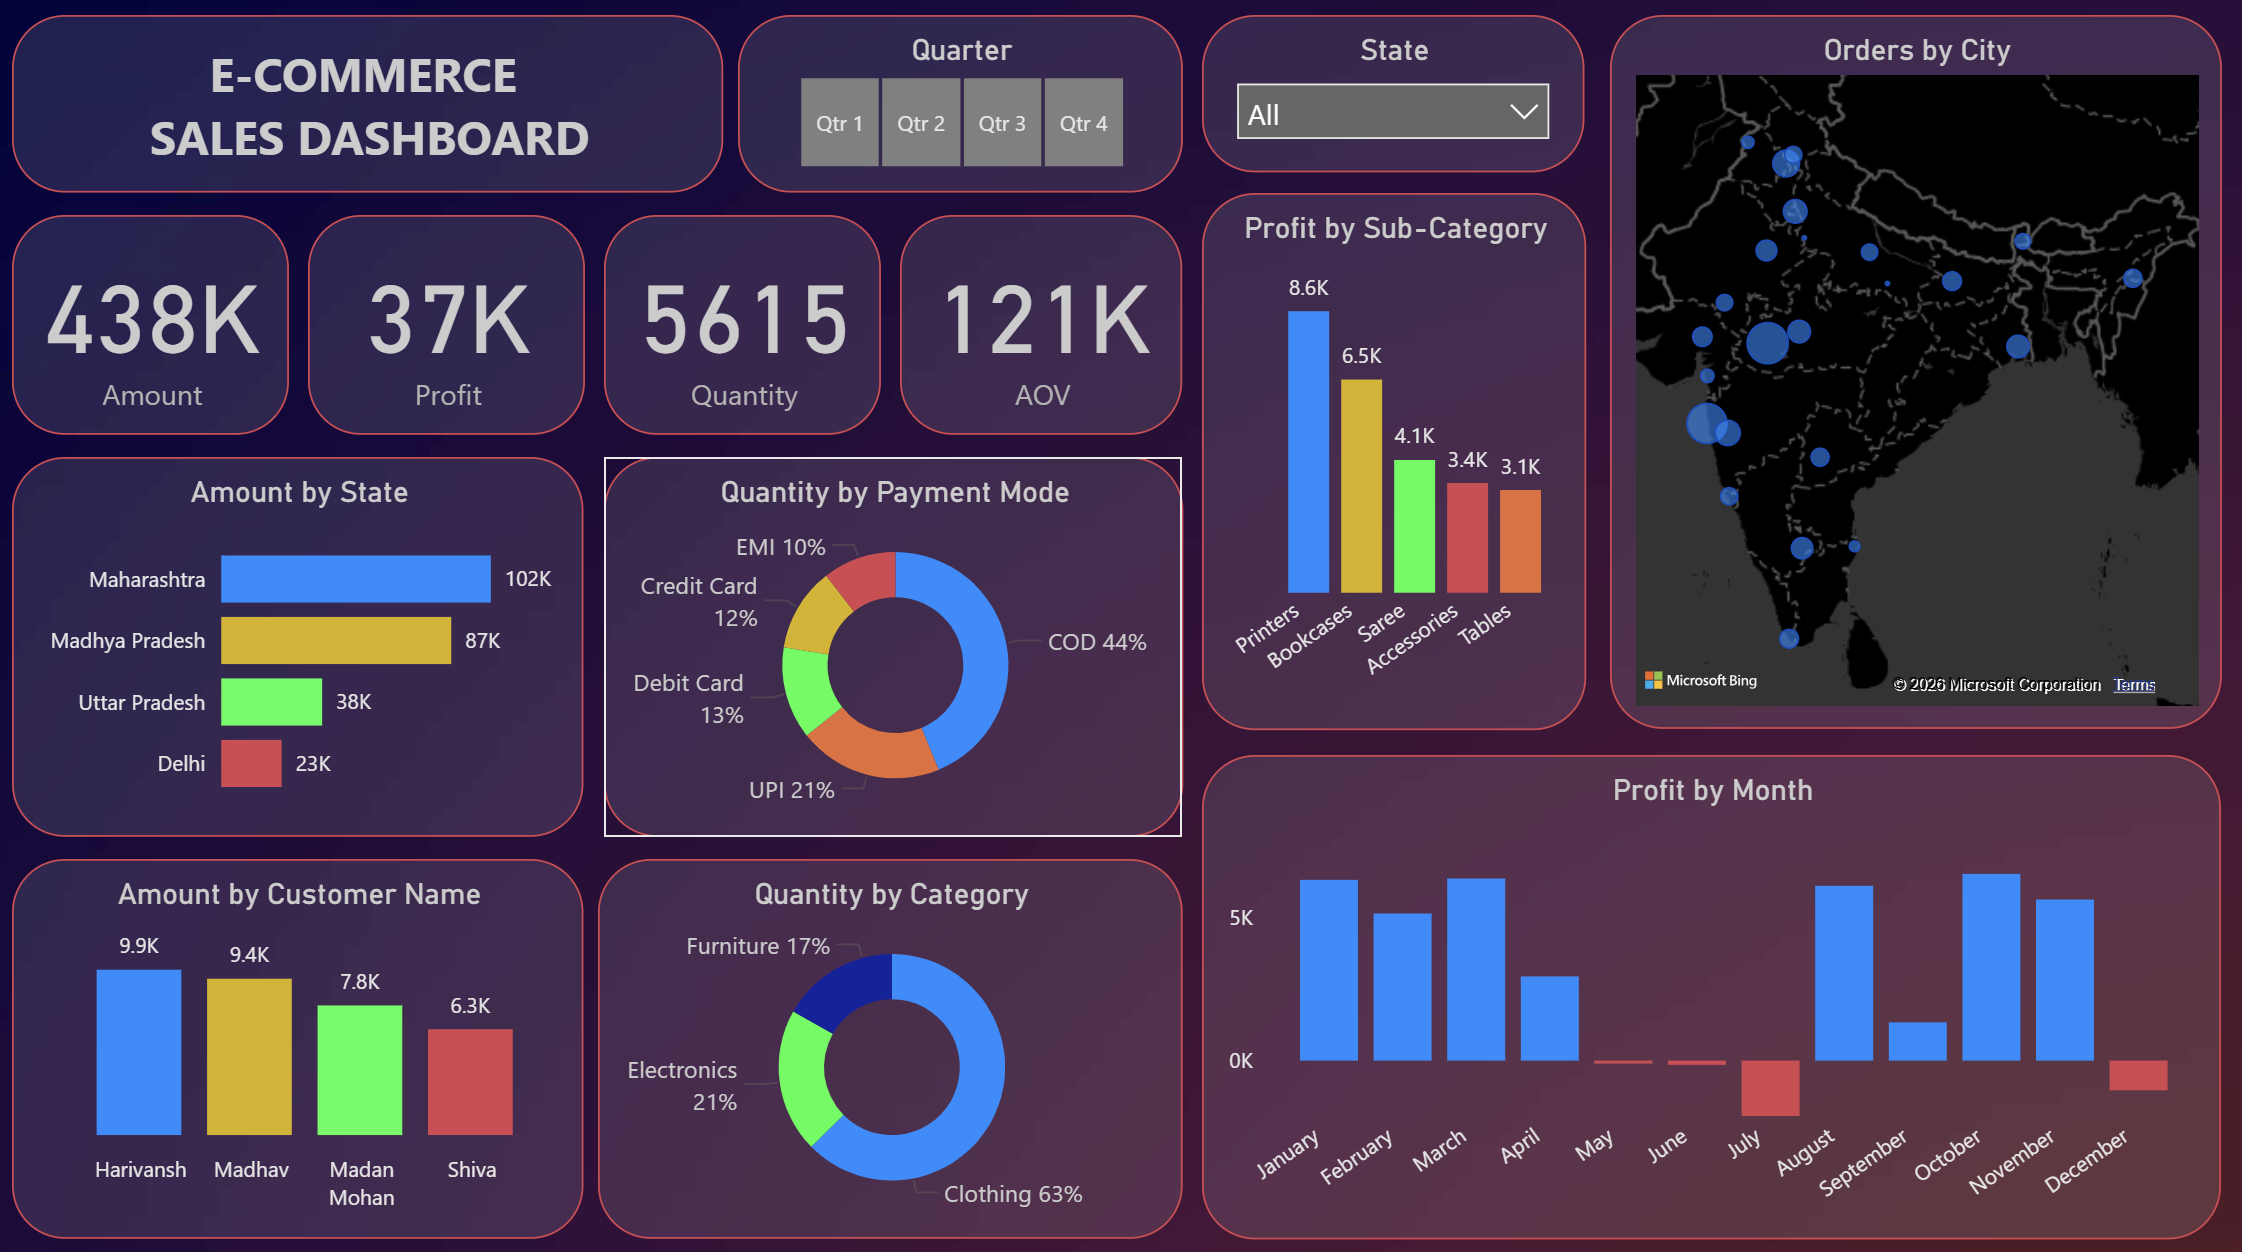

What the dashboard file says about the page in this screenshot:
{"tool":"powerbi","page":{"name":"Page 1","canvas":[1280,720],"ordinal":0},"visuals":[{"type":"textbox","box":[9.9,14.2,404.7,100.8],"z":0},{"type":"columnChart","fields":{"Y":["Sum(Details.Profit)"],"Category":["Orders.Order Date.Variation.Date Hierarchy.Month"]},"box":[687.3,434.6,579.4,275.5],"z":1000},{"type":"columnChart","fields":{"Category":["Details.Sub-Category"],"Y":["Sum(Details.Profit)"]},"box":[687.3,115,218.7,305.3],"z":2000},{"type":"donutChart","fields":{"Category":["Details.Category"],"Y":["Sum(Details.Quantity)"]},"box":[343.7,494.2,332.3,215.9],"z":3000},{"type":"donutChart","fields":{"Y":["Sum(Details.Quantity)"],"Category":["Details.PaymentMode"]},"box":[346.5,265.6,329.5,215.9],"z":4000},{"type":"card","fields":{"Values":["Sum(Details.Amount)"]},"box":[9.9,127.8,157.6,125],"z":5000},{"type":"card","fields":{"Values":["Sum(Details.Profit)"]},"box":[178.5,127.8,157.6,125],"z":6000},{"type":"card","fields":{"Values":["Sum(Details.Quantity)"]},"box":[347,127.8,157.6,125],"z":7000},{"type":"card","fields":{"Values":["Sum(Details.AOV)"]},"box":[515.5,127.8,160.5,125],"z":8000},{"type":"barChart","fields":{"Category":["Orders.State"],"Y":["Sum(Details.Amount)"]},"box":[9.9,265.6,325.2,215.9],"z":9000},{"type":"columnChart","fields":{"Category":["Orders.Customer Name"],"Y":["Sum(Details.Amount)"]},"box":[10,494.2,325,216],"z":10000},{"type":"slicer","title":"Quarter","fields":{"Values":["Orders.Order Date.Variation.Date Hierarchy.Quarter"]},"box":[423.2,14.2,252.8,100.8],"z":11000},{"type":"slicer","title":"State","fields":{"Values":["Orders.State"]},"box":[687.3,14.2,217.3,89.5],"z":12000},{"type":"map","title":"Orders by City","fields":{"Category":["Orders.City"],"Size":["CountNonNull(Orders.Order ID)"]},"box":[918.8,14.2,347.9,406.2],"z":13000}]}

Visuals, with their boxes in screenshot pixels (x1, y1, x2, y2), scaled from the page's 1280x720 canvas onto the 2242x1252 screenshot:
textbox: Rect(17, 25, 726, 200)
columnChart - Sum(Details.Profit) x Orders.Order Date.Variation.Date Hierarchy.Month: Rect(1204, 756, 2219, 1235)
columnChart - Details.Sub-Category x Sum(Details.Profit): Rect(1204, 200, 1587, 731)
donutChart - Details.Category x Sum(Details.Quantity): Rect(602, 859, 1184, 1235)
donutChart - Sum(Details.Quantity) x Details.PaymentMode: Rect(607, 462, 1184, 837)
card - Sum(Details.Amount): Rect(17, 222, 293, 440)
card - Sum(Details.Profit): Rect(313, 222, 589, 440)
card - Sum(Details.Quantity): Rect(608, 222, 884, 440)
card - Sum(Details.AOV): Rect(903, 222, 1184, 440)
barChart - Orders.State x Sum(Details.Amount): Rect(17, 462, 587, 837)
columnChart - Orders.Customer Name x Sum(Details.Amount): Rect(18, 859, 587, 1235)
"Quarter" slicer: Rect(741, 25, 1184, 200)
"State" slicer: Rect(1204, 25, 1584, 180)
"Orders by City" map: Rect(1609, 25, 2219, 731)
